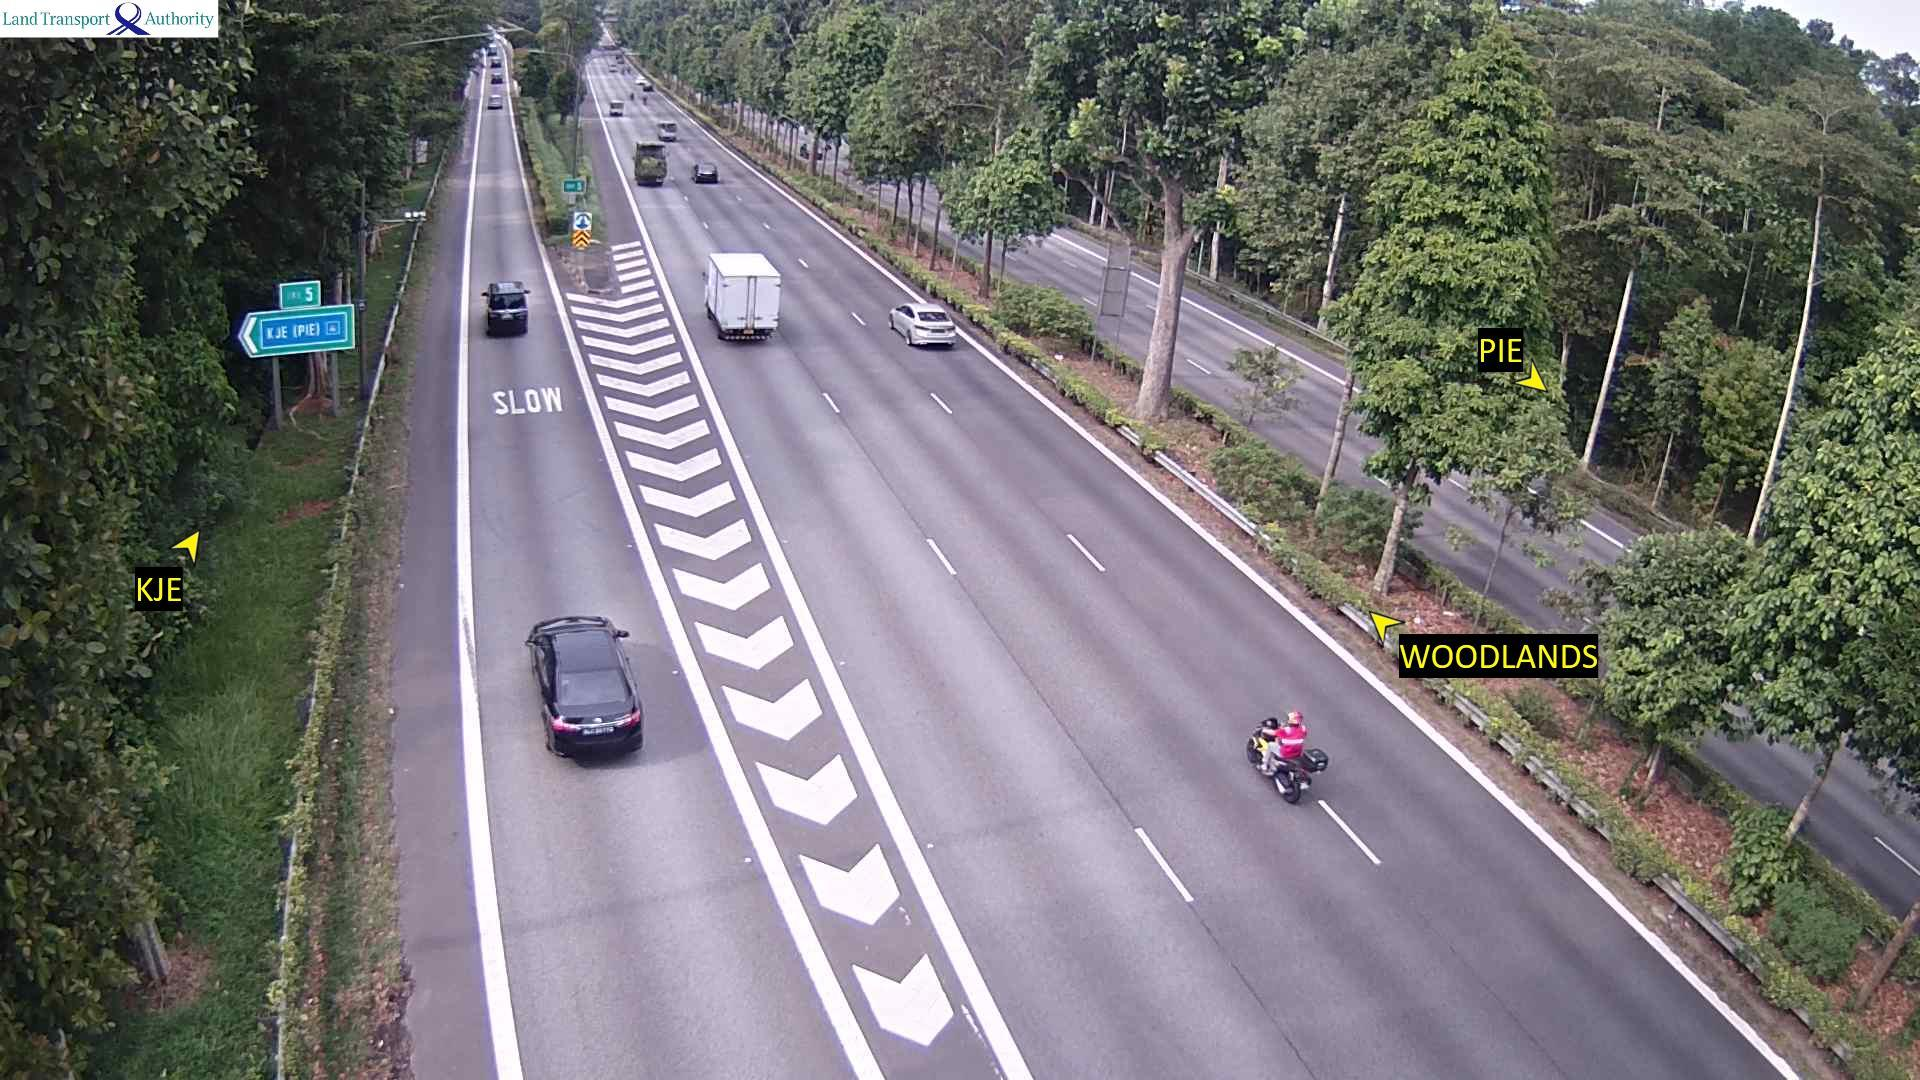cars: (524, 613, 644, 758), (887, 302, 957, 348), (480, 280, 530, 335), (691, 161, 717, 183), (655, 119, 676, 141), (483, 42, 500, 62), (607, 98, 622, 115), (487, 92, 502, 109), (489, 69, 504, 84), (636, 76, 651, 91), (469, 47, 483, 65)
motorcycle: (1244, 716, 1329, 804)
trucks: (702, 251, 781, 342), (633, 140, 669, 185)
